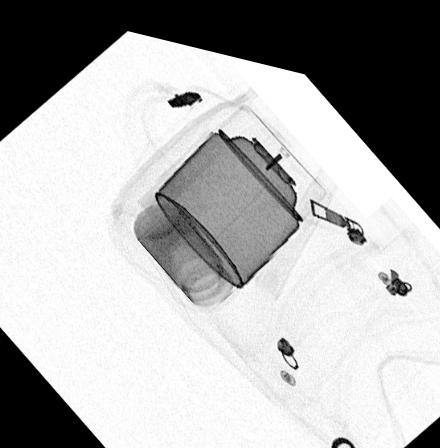Sprayer: (152, 88, 329, 279)
